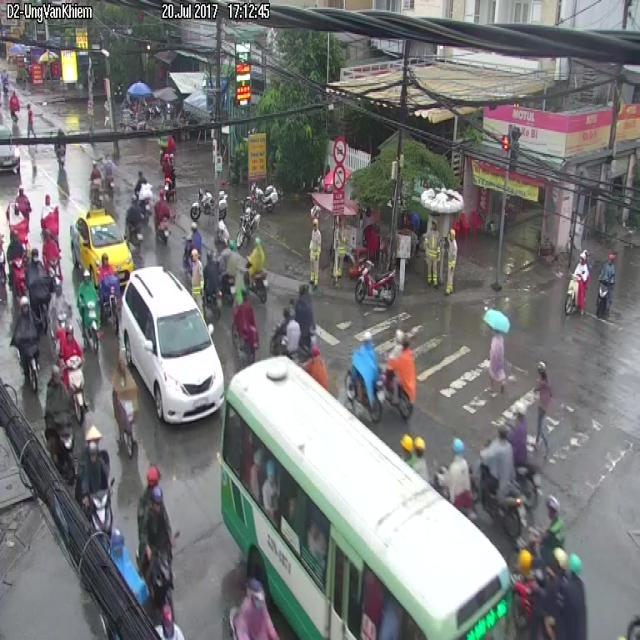car: (76, 425, 113, 535), (355, 261, 398, 307)
person: (219, 357, 508, 639)
traffic-light: (120, 267, 223, 424), (71, 207, 133, 273)
